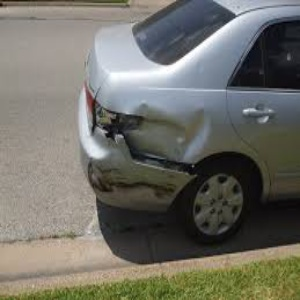door_scratch: (125, 149, 181, 193)
